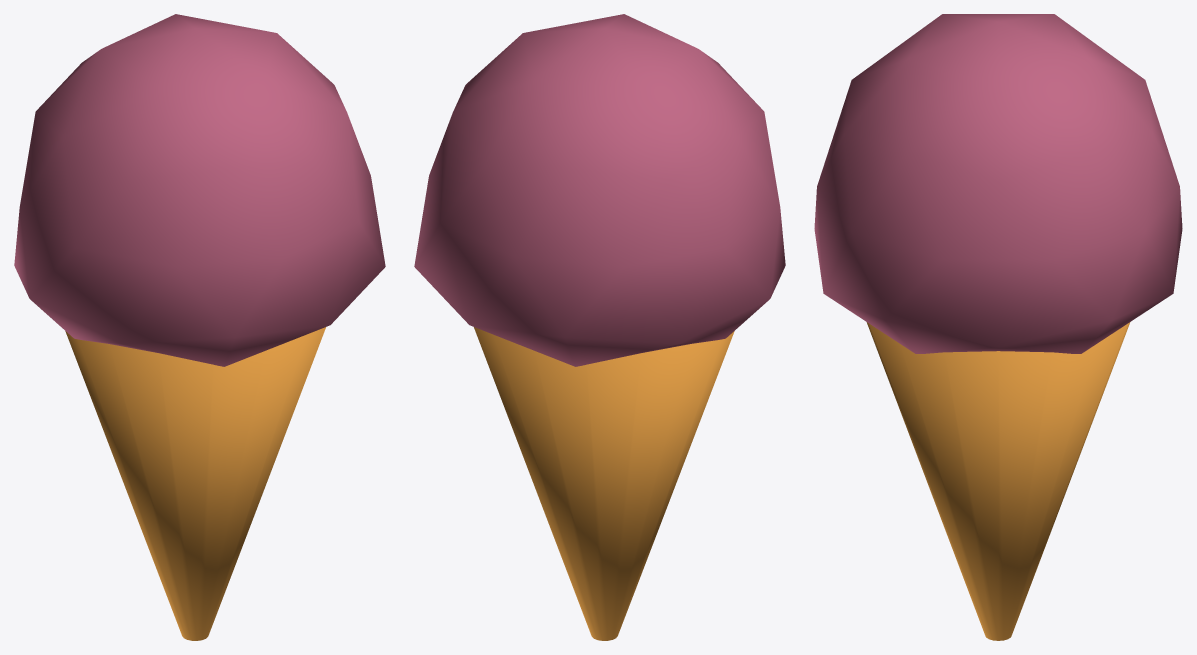
File: IceCreamCone.fbx
3 renders of one model, left to right at view 1: azimuth 30°, elevation 25°; view 2: azimuth 150°, elevation 25°; view 3: azimuth 270°, elevation 25°, orthographic.
Visible parts, largest first — view 1: Ice Cream Cone; view 2: Ice Cream Cone; view 3: Ice Cream Cone.
Part boxes in pixels (x1,y1,x2,y2): Ice Cream Cone: (14, 14, 385, 640); Ice Cream Cone: (414, 14, 785, 640); Ice Cream Cone: (814, 14, 1182, 640).
Size of the model in its own units: 29.34 by 28.6 by 52.59.
